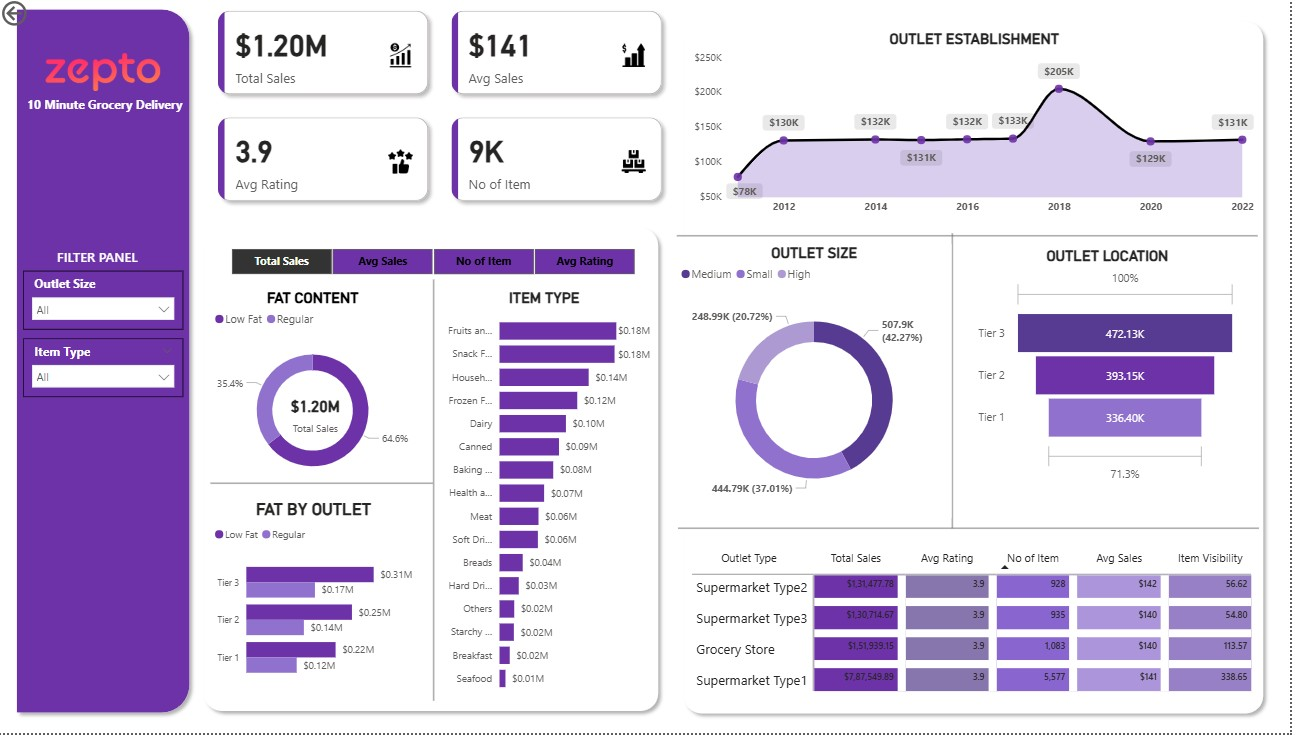

This screenshot's page, from the dashboard's own definition file:
{"tool":"powerbi","page":{"name":"Page 1","canvas":[1579,900],"ordinal":0},"visuals":[{"type":"shape","box":[243,273.6,573.2,608.4],"z":0},{"type":"shape","box":[13.8,6.1,229.3,878],"z":1000},{"type":"cardVisual","fields":{"Data":["BlinkIT Grocery Data.Total Sales","BlinkIT Grocery Data.Avg Sales","BlinkIT Grocery Data.Avg Rating","BlinkIT Grocery Data.No of Item"]},"box":[252.2,0,577.8,267.5],"z":2000},{"type":"slicer","fields":{"Values":["Matrix.Matrix"]},"box":[259.9,301.1,542.6,44.3],"z":3000},{"type":"donutChart","title":"FAT CONTENT","fields":{"Y":["Zepto Grocery Data.Total Sales"],"Category":["BlinkIT Grocery Data.Item Fat Content"]},"box":[259.9,357.7,250,250],"z":4000},{"type":"card","fields":{"Values":["Zepto Grocery Data.Total Sales"]},"box":[340.9,480,94.8,58.1],"z":5000},{"type":"clusteredBarChart","title":"FAT BY OUTLET","fields":{"Y":["Zepto Grocery Data.Total Sales"],"Series":["BlinkIT Grocery Data.Item Fat Content"],"Category":["BlinkIT Grocery Data.Outlet Location Type"]},"box":[259.9,614.5,252,237],"z":6000},{"type":"barChart","title":"ITEM TYPE","fields":{"Y":["Zepto Grocery Data.Total Sales"],"Category":["BlinkIT Grocery Data.Item Type"]},"box":[533.5,357.7,269,502.9],"z":7000},{"type":"shape","box":[515.1,345.5,35.2,515.1],"z":8000},{"type":"shape","box":[259.9,574.7,272.1,39.7],"z":9000},{"type":"shape","box":[830,21.4,726.1,863.6],"z":10000},{"type":"lineChart","title":"OUTLET ESTABLISHMENT","fields":{"Y":["BlinkIT Grocery Data.Total Sales"],"Category":["BlinkIT Grocery Data.Outlet Establishment Year"]},"box":[846.8,41.3,694,232.3],"z":11000},{"type":"funnel","title":"OUTLET LOCATION","fields":{"Y":["Sum(BlinkIT Grocery Data.Sales)"],"Category":["BlinkIT Grocery Data.Outlet Location Type"]},"box":[1193.8,305.7,325.6,293.5],"z":12000},{"type":"pivotTable","fields":{"Rows":["BlinkIT Grocery Data.Outlet Type"],"Values":["BlinkIT Grocery Data.Total Sales","BlinkIT Grocery Data.Avg Rating","BlinkIT Grocery Data.No of Item","BlinkIT Grocery Data.Avg Sales","Sum(BlinkIT Grocery Data.Item Visibility)"]},"box":[843.8,668,698.5,192.6],"z":13000},{"type":"actionButton","box":[0,0,100,40],"z":14000},{"type":"slicer","fields":{"Values":["BlinkIT Grocery Data.Item Type"]},"box":[30.6,417.3,195.7,71.8],"z":15000},{"type":"image","box":[53.5,56.6,149.8,70.3],"z":16000},{"type":"textbox","box":[67.3,301.1,120.8,32.1],"z":17000},{"type":"textbox","box":[30.6,116.2,224.7,35.2],"z":18000},{"type":"shape","box":[831.5,635.9,710.8,27.5],"z":19000},{"type":"shape","box":[1129.6,288.9,74.9,360.7],"z":20000},{"type":"shape","box":[830,278.2,710.8,27.5],"z":21000},{"type":"slicer","fields":{"Values":["Zepto Grocery Data.Outlet Size"]},"box":[30.6,334.8,195.7,71.8],"z":22000},{"type":"donutChart","title":"OUTLET SIZE","fields":{"Category":["Zepto Grocery Data.Outlet Size"],"Y":["Sum(Zepto Grocery Data.Sales)"]},"box":[830,302.7,336.3,334.8],"z":23000}]}

Visuals, with their boxes in screenshot pixels (x1, y1, x2, y2), scaled from the page's 1579x900 canvas onto the 1297x735 screenshot:
shape: {"x1": 200, "y1": 223, "x2": 670, "y2": 720}
shape: {"x1": 11, "y1": 5, "x2": 200, "y2": 722}
cardVisual - BlinkIT Grocery Data.Total Sales x BlinkIT Grocery Data.Avg Sales: {"x1": 207, "y1": 0, "x2": 682, "y2": 218}
slicer - Matrix.Matrix: {"x1": 213, "y1": 246, "x2": 659, "y2": 282}
"FAT CONTENT" donutChart: {"x1": 213, "y1": 292, "x2": 419, "y2": 496}
card - Zepto Grocery Data.Total Sales: {"x1": 280, "y1": 392, "x2": 358, "y2": 439}
"FAT BY OUTLET" clusteredBarChart: {"x1": 213, "y1": 502, "x2": 420, "y2": 695}
"ITEM TYPE" barChart: {"x1": 438, "y1": 292, "x2": 659, "y2": 703}
shape: {"x1": 423, "y1": 282, "x2": 452, "y2": 703}
shape: {"x1": 213, "y1": 469, "x2": 437, "y2": 502}
shape: {"x1": 682, "y1": 17, "x2": 1278, "y2": 723}
"OUTLET ESTABLISHMENT" lineChart: {"x1": 696, "y1": 34, "x2": 1266, "y2": 223}
"OUTLET LOCATION" funnel: {"x1": 981, "y1": 250, "x2": 1248, "y2": 489}
pivotTable - BlinkIT Grocery Data.Outlet Type x BlinkIT Grocery Data.Total Sales: {"x1": 693, "y1": 546, "x2": 1267, "y2": 703}
actionButton: {"x1": 0, "y1": 0, "x2": 82, "y2": 33}
slicer - BlinkIT Grocery Data.Item Type: {"x1": 25, "y1": 341, "x2": 186, "y2": 399}
image: {"x1": 44, "y1": 46, "x2": 167, "y2": 104}
textbox: {"x1": 55, "y1": 246, "x2": 155, "y2": 272}
textbox: {"x1": 25, "y1": 95, "x2": 210, "y2": 124}
shape: {"x1": 683, "y1": 519, "x2": 1267, "y2": 542}
shape: {"x1": 928, "y1": 236, "x2": 989, "y2": 531}
shape: {"x1": 682, "y1": 227, "x2": 1266, "y2": 250}
slicer - Zepto Grocery Data.Outlet Size: {"x1": 25, "y1": 273, "x2": 186, "y2": 332}
"OUTLET SIZE" donutChart: {"x1": 682, "y1": 247, "x2": 958, "y2": 521}
